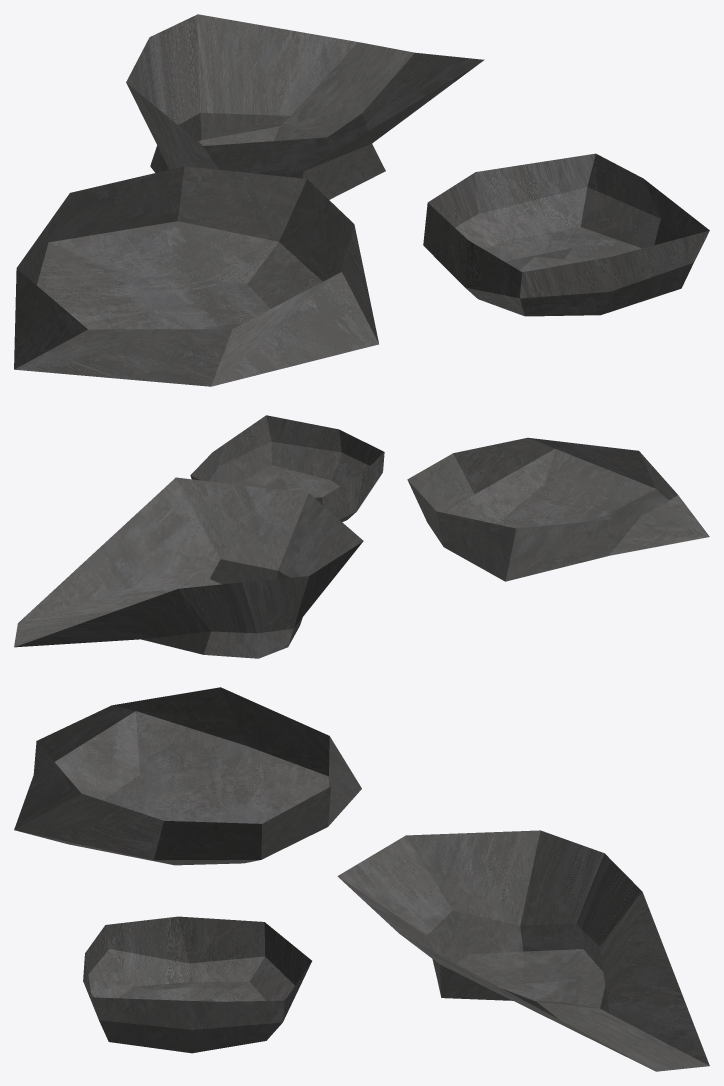
The model's file is rock_bounds.glb.
3 views of the same model, one above another, from view 1: azimuth 30°, elevation 25°; view 2: azimuth 150°, elevation 25°; view 3: azimuth 270°, elevation 25° (orthographic). The views are drawn at different scales.
Parts seen in each view (by area): view 1: Cube.003, Cube, Cube.001; view 2: Cube, Cube.003, Cube.001; view 3: Cube, Cube.003, Cube.001.
Part boxes in pixels (x1,y1,x2,y2): Cube.003: (14,166,378,386); Cube: (126,14,484,199); Cube.001: (423,153,709,316); Cube: (14,477,363,658); Cube.003: (407,437,709,581); Cube.001: (190,415,384,522); Cube: (337,830,709,1071); Cube.003: (14,687,361,865); Cube.001: (83,916,311,1053).
Bounding box in the file's own units: 168 × 33.7 × 168.
1 material, 1 textured.
